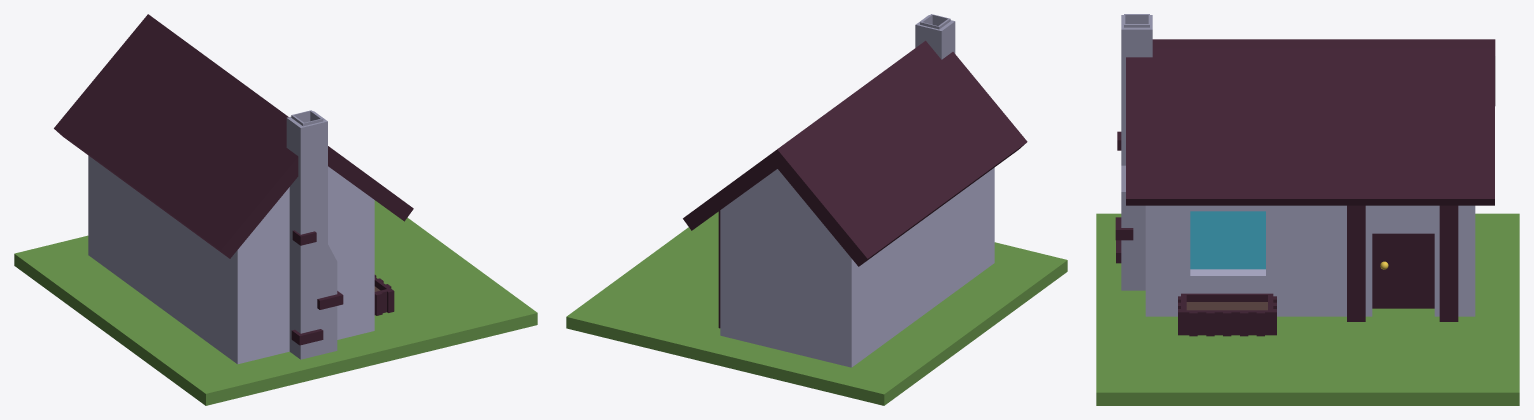
The model's file is casa-3.glb.
The picture shows the model from 3 angles, left to right: view 1: azimuth 30°, elevation 25°; view 2: azimuth 150°, elevation 25°; view 3: azimuth 270°, elevation 25°; orthographic projection. The views are drawn at different scales.
Parts seen in each view (by area): view 1: Cubo.002, Cube, Cubo, Cubo.003, Cubo.005; view 2: Cubo, Cubo.002, Cube, Cubo.003; view 3: Cubo.002, Cube, Cubo, Cubo.005, Cubo.003, Cubo.004, Cubo.001.
Part boxes in pixels (left/top/right/bottom): Cubo.002: left=54, top=14, right=413, bottom=258; Cube: left=14, top=200, right=537, bottom=405; Cubo: left=88, top=155, right=374, bottom=364; Cubo.003: left=286, top=110, right=337, bottom=359; Cubo.005: left=374, top=275, right=394, bottom=315; Cubo: left=720, top=167, right=994, bottom=367; Cubo.002: left=683, top=40, right=1027, bottom=266; Cube: left=566, top=211, right=1067, bottom=405; Cubo.003: left=915, top=14, right=955, bottom=59; Cubo.002: left=1126, top=39, right=1495, bottom=205; Cube: left=1096, top=213, right=1519, bottom=405; Cubo: left=1145, top=205, right=1475, bottom=316; Cubo.005: left=1178, top=293, right=1276, bottom=336; Cubo.003: left=1121, top=14, right=1152, bottom=290; Cubo.004: left=1439, top=205, right=1458, bottom=321; Cubo.001: left=1347, top=205, right=1365, bottom=321.
Bounding box in the file's own units: 6.17 × 4.38 × 6.17.
